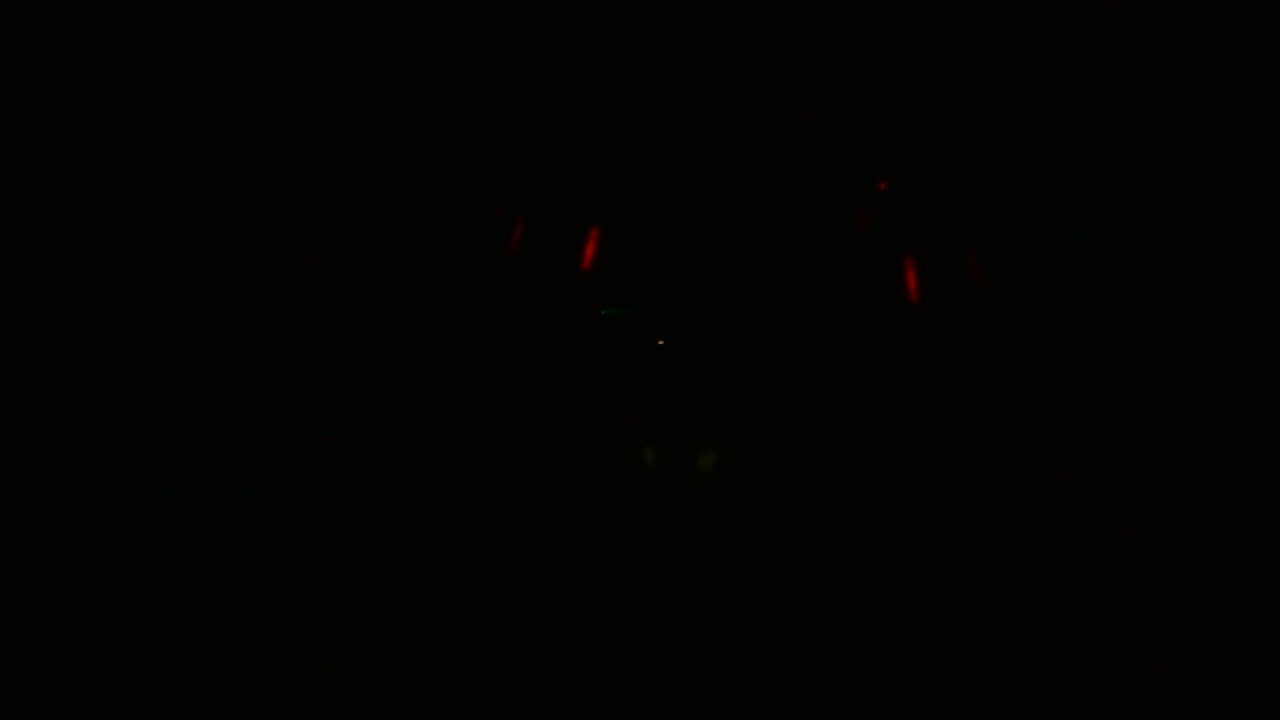pair1: (903, 258, 935, 312)
